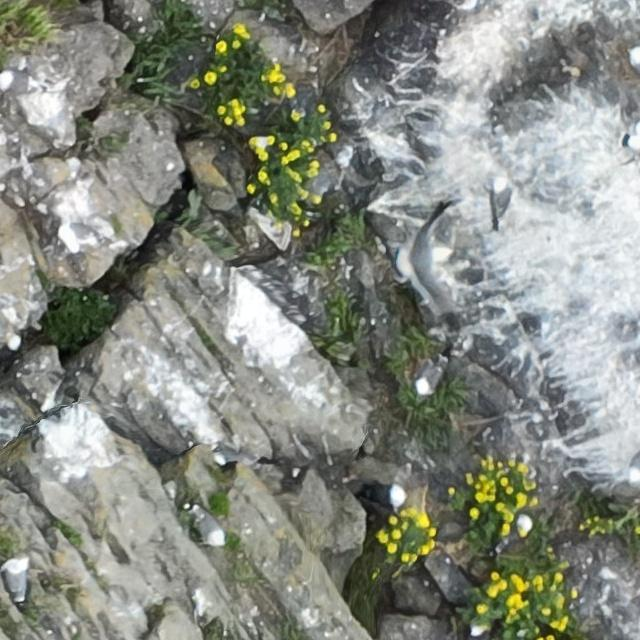F: (398, 197, 458, 319)
umineko: (499, 514, 531, 548), (1, 70, 41, 94), (59, 224, 101, 246), (197, 512, 224, 544), (414, 362, 440, 394), (8, 566, 27, 601), (494, 183, 510, 220), (385, 485, 405, 507), (216, 450, 245, 464)
